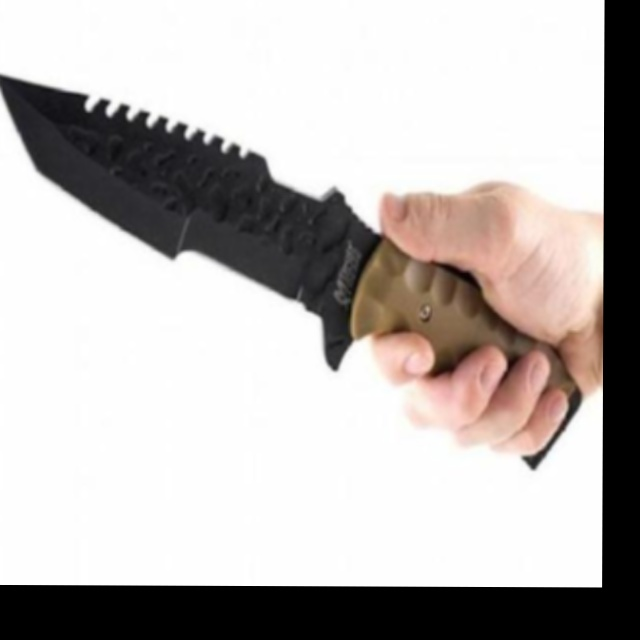Sharp-Object: (0, 74, 583, 470)
